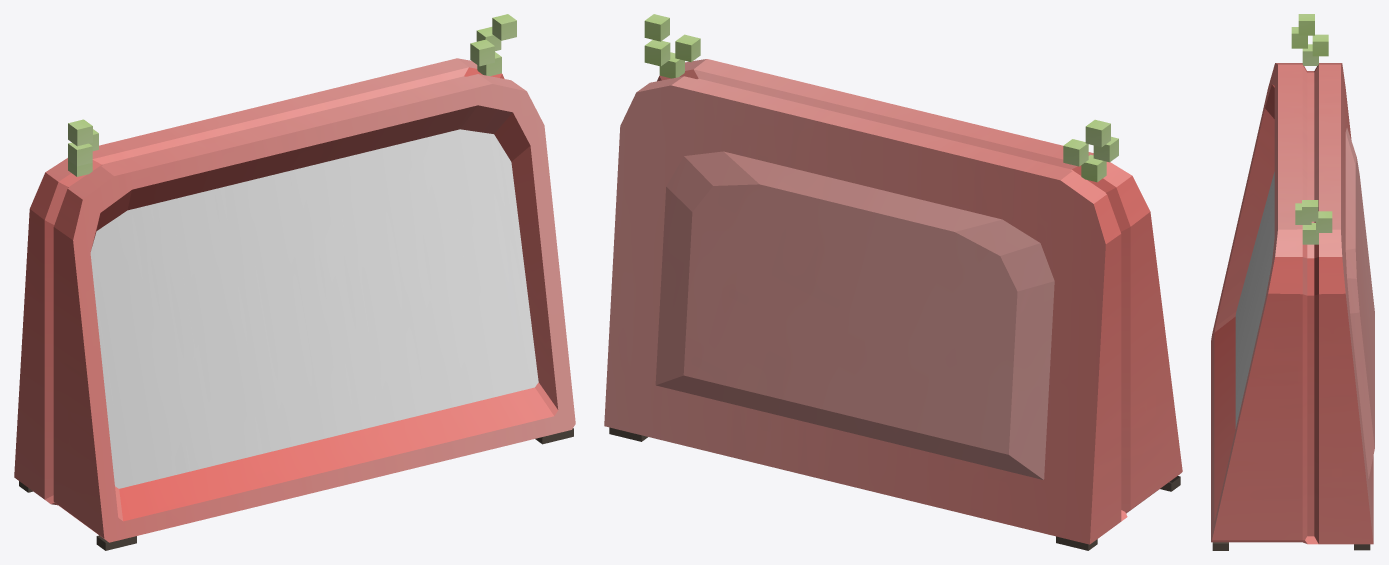
Rendered from SM_Alarm_down_01.fbx.
3 views of the same model, side by side, from view 1: azimuth 30°, elevation 25°; view 2: azimuth 150°, elevation 25°; view 3: azimuth 270°, elevation 25° (orthographic). The views are drawn at different scales.
Visible parts, largest first — view 1: SM_Alarm_down_01; view 2: SM_Alarm_down_01; view 3: SM_Alarm_down_01.
Part boxes in pixels (bbox=[...]): SM_Alarm_down_01: bbox=[14, 14, 575, 550]; SM_Alarm_down_01: bbox=[604, 14, 1182, 550]; SM_Alarm_down_01: bbox=[1211, 14, 1374, 550].
Bounding box in the file's own units: 30 × 23.18 × 10.08.
